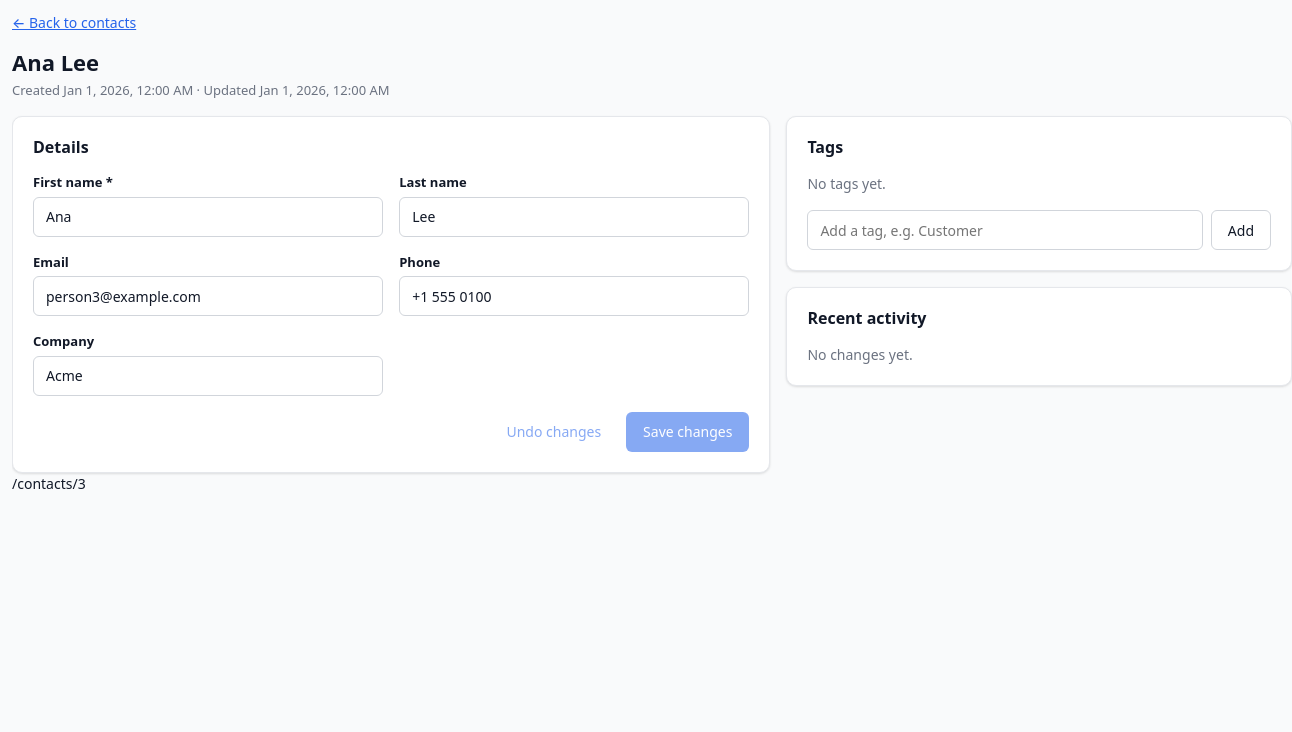
ContactDetailPage › shows a server error (duplicate email) on the email field
Expected: the heading "Ana Lee" is shown, [12,47,99,77]
Replace the text in the field labelled "Email" with "taken@example.com". click: (208, 296)
box: [33,276,383,316]
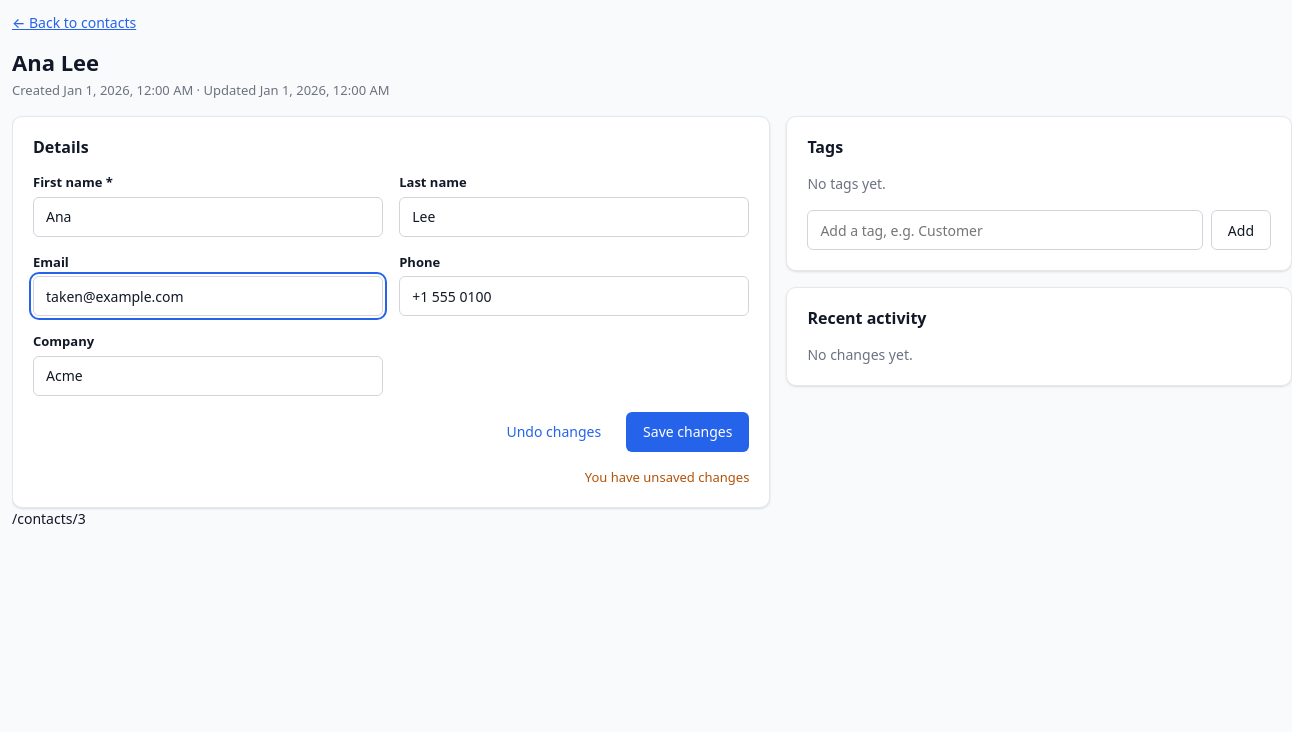
Click the button "Save changes". click: (688, 432)
box: [626,412,749,452]
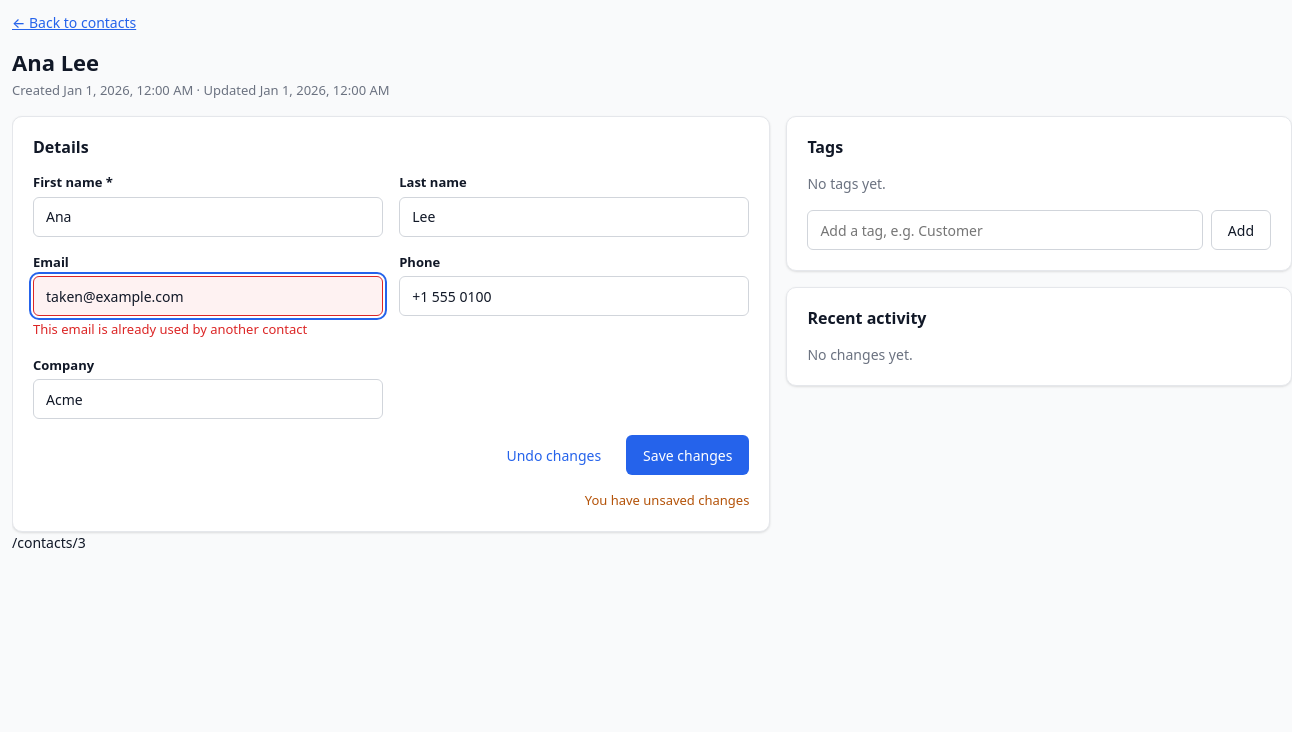
Expected: the text "This email is already used by another contact" is shown, [33,320,307,338]
